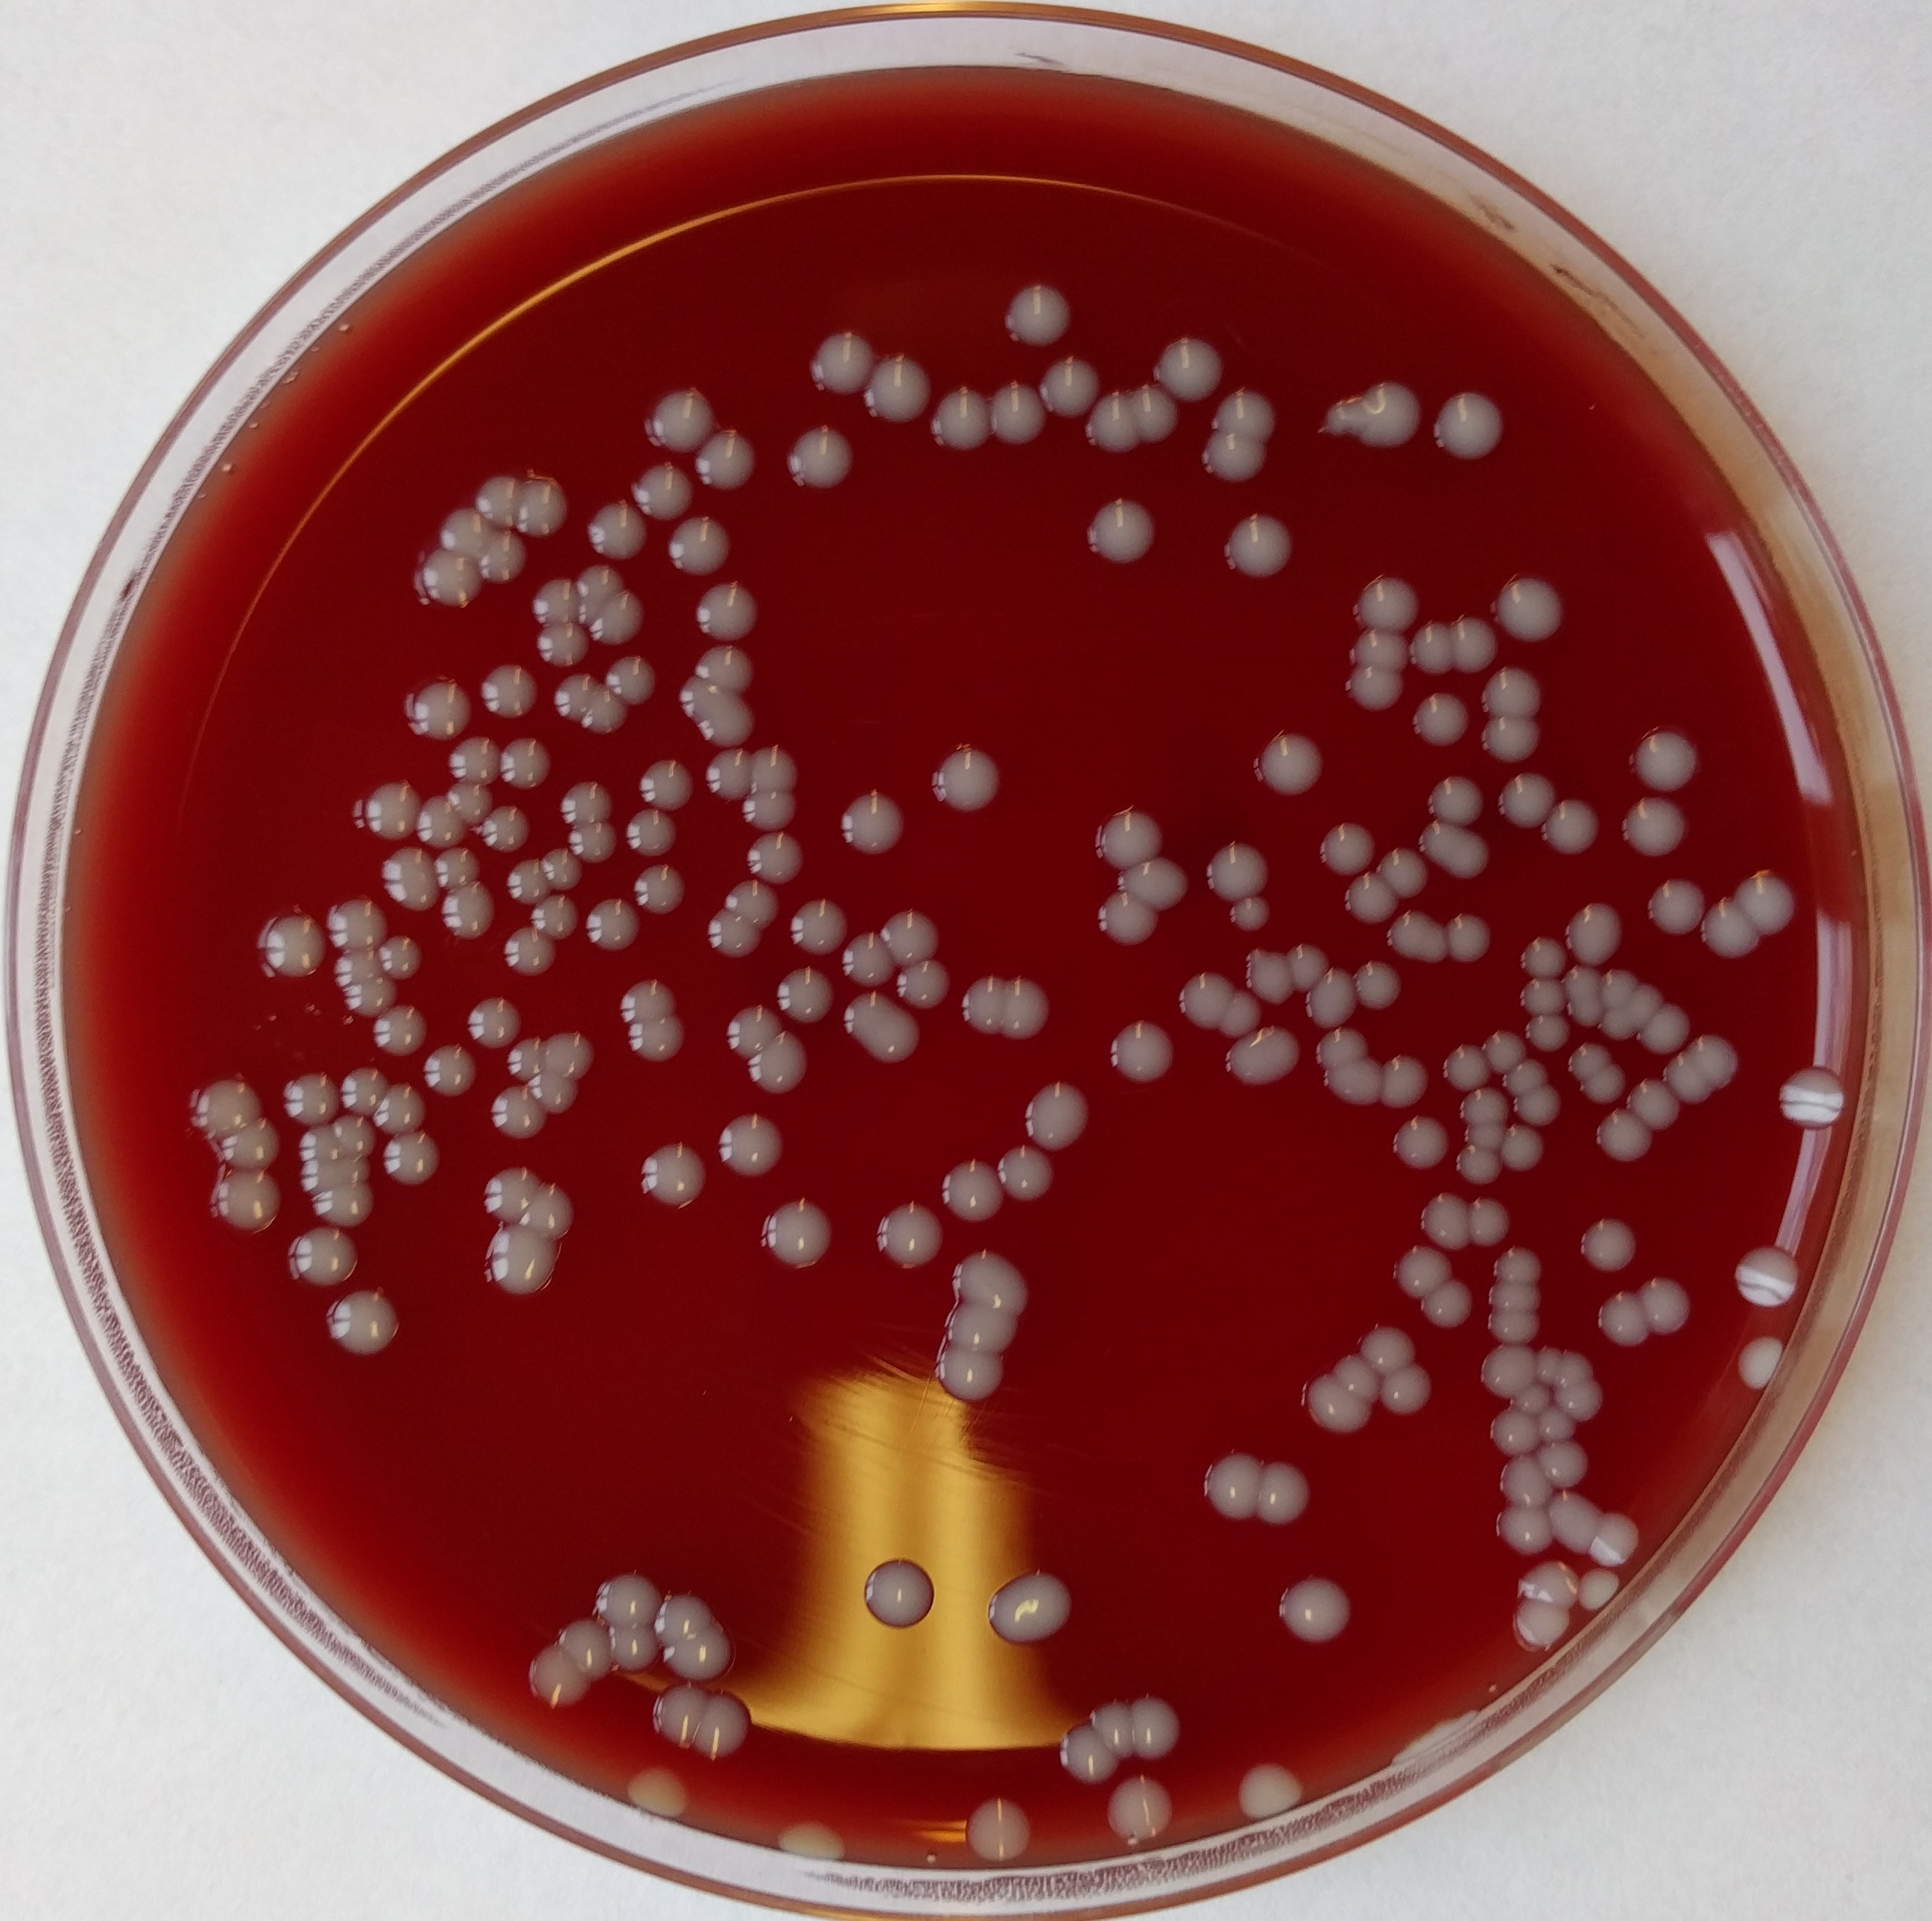sp22: (1311, 382, 1423, 468), (1418, 385, 1524, 468), (713, 1105, 797, 1191), (1214, 510, 1304, 589), (978, 1574, 1079, 1645), (1248, 721, 1332, 804), (475, 1228, 570, 1300), (857, 1550, 936, 1636), (628, 1142, 721, 1214), (853, 348, 938, 427), (1075, 493, 1161, 570), (841, 990, 926, 1068), (246, 911, 333, 987), (322, 901, 398, 987), (1270, 1574, 1358, 1648), (1017, 1078, 1098, 1158), (755, 1198, 838, 1275), (318, 1289, 412, 1358), (918, 746, 1003, 822), (1768, 1063, 1853, 1138), (945, 1249, 1036, 1318), (1409, 809, 1490, 887), (1614, 788, 1696, 864), (776, 426, 859, 500), (989, 285, 1075, 355), (676, 427, 762, 498), (1094, 1773, 1181, 1844), (679, 1689, 758, 1764), (1147, 331, 1228, 405), (984, 375, 1057, 456), (183, 1082, 280, 1143), (1216, 1024, 1307, 1089), (1100, 1019, 1184, 1089), (1401, 684, 1480, 758), (658, 1611, 739, 1684), (1031, 355, 1114, 426), (1555, 895, 1631, 971), (1728, 1238, 1804, 1314), (287, 1228, 370, 1296), (206, 1170, 290, 1237), (1244, 1458, 1318, 1534), (922, 385, 999, 457), (806, 329, 883, 401), (1489, 572, 1570, 640), (959, 1793, 1040, 1861), (867, 1205, 948, 1274), (832, 793, 915, 860), (1731, 866, 1805, 939), (519, 1647, 598, 1715), (1353, 561, 1427, 633), (1628, 725, 1703, 795), (401, 676, 482, 741), (1193, 1455, 1265, 1527), (544, 1610, 618, 1680), (640, 383, 720, 449), (1195, 427, 1276, 491), (929, 1340, 1010, 1404), (626, 468, 707, 531), (779, 897, 857, 962), (660, 515, 739, 579), (771, 1814, 852, 1875), (938, 1296, 1026, 1353), (1341, 619, 1416, 684), (1230, 1757, 1306, 1822), (410, 549, 486, 614), (1195, 841, 1272, 904), (1107, 858, 1191, 917), (579, 500, 656, 563), (1084, 894, 1163, 955), (582, 1571, 663, 1631), (1640, 876, 1710, 945), (1124, 1691, 1189, 1764), (686, 577, 760, 642), (370, 848, 445, 911), (507, 470, 574, 540), (1587, 1105, 1661, 1168), (1050, 1724, 1124, 1787), (876, 908, 950, 971), (741, 1024, 804, 1098), (936, 1163, 1012, 1224), (1533, 793, 1601, 860), (1489, 767, 1557, 834), (359, 783, 429, 848), (648, 1589, 720, 1652), (769, 968, 841, 1031), (211, 1117, 289, 1175), (1631, 999, 1698, 1066), (648, 1684, 714, 1750), (1077, 389, 1147, 452), (1570, 1214, 1640, 1277), (614, 1766, 699, 1819), (579, 588, 649, 651), (364, 1082, 436, 1143), (992, 1145, 1066, 1205), (1299, 1377, 1374, 1435), (1508, 1555, 1584, 1613), (621, 1013, 699, 1070), (1635, 1274, 1700, 1340), (1439, 609, 1503, 677), (1369, 841, 1438, 904), (1387, 1115, 1457, 1177), (1167, 973, 1237, 1034), (994, 971, 1056, 1041), (618, 804, 688, 866), (472, 663, 542, 725), (1094, 811, 1174, 866), (716, 876, 788, 936), (1205, 385, 1279, 443), (581, 894, 648, 957), (457, 992, 528, 1052), (473, 1165, 547, 1221), (739, 829, 813, 885), (274, 1071, 350, 1126), (1119, 380, 1184, 443), (693, 744, 758, 807), (1399, 614, 1460, 681), (1698, 899, 1765, 960), (600, 1618, 667, 1680), (954, 976, 1014, 1045), (1416, 1191, 1482, 1253), (1582, 1504, 1643, 1569), (1082, 1701, 1147, 1763), (436, 885, 501, 946), (494, 735, 560, 797), (693, 698, 755, 763), (565, 563, 625, 630), (611, 978, 686, 1031), (361, 1003, 429, 1061), (1311, 818, 1381, 874), (378, 1133, 450, 1187), (692, 646, 764, 700), (1316, 1059, 1390, 1112), (1494, 1504, 1557, 1566), (1438, 906, 1497, 971), (1381, 908, 1448, 966), (1724, 1333, 1791, 1391), (1475, 667, 1545, 721), (889, 957, 959, 1012), (1650, 1048, 1723, 1101), (1538, 1488, 1599, 1550), (1336, 867, 1399, 927), (1295, 969, 1358, 1029), (839, 932, 903, 992), (1619, 1080, 1686, 1136), (1471, 1339, 1538, 1395), (517, 1175, 574, 1242), (494, 924, 561, 980), (413, 1045, 480, 1101), (531, 616, 598, 672), (1475, 712, 1547, 763), (1460, 1187, 1519, 1251), (1510, 1596, 1573, 1654), (716, 1004, 783, 1059), (1390, 1244, 1459, 1296), (410, 795, 470, 855), (1425, 772, 1489, 829), (1376, 1052, 1432, 1115), (748, 741, 811, 797), (635, 756, 699, 813), (368, 934, 433, 989), (331, 980, 408, 1026), (628, 867, 695, 920), (1339, 663, 1413, 711), (306, 1182, 380, 1230), (565, 818, 633, 869), (538, 1024, 598, 1082), (1348, 959, 1411, 1013), (440, 735, 503, 790), (1416, 1282, 1482, 1335), (466, 530, 531, 582), (1436, 1047, 1503, 1098), (598, 656, 665, 707), (1592, 1293, 1652, 1349), (1483, 1406, 1543, 1462), (547, 670, 607, 727), (1684, 1034, 1745, 1089), (1374, 1363, 1438, 1416), (482, 1087, 545, 1140), (1489, 1455, 1554, 1506), (431, 505, 496, 556), (1496, 1122, 1552, 1180), (468, 473, 526, 530), (697, 913, 772, 955), (672, 677, 748, 719), (1309, 1027, 1376, 1075), (1517, 1001, 1577, 1054), (521, 892, 582, 943), (1207, 985, 1270, 1034), (524, 579, 588, 628), (1504, 1082, 1570, 1129), (523, 1068, 588, 1115), (1240, 946, 1299, 999), (1358, 1326, 1415, 1379), (535, 843, 595, 892), (500, 857, 560, 906), (440, 781, 501, 829), (579, 683, 632, 737), (1330, 1348, 1381, 1404), (334, 1064, 391, 1115), (737, 790, 802, 834), (1513, 932, 1571, 982), (1577, 1064, 1635, 1114), (1281, 941, 1336, 992), (1562, 1040, 1619, 1089), (1485, 1304, 1545, 1349), (475, 807, 535, 853), (1536, 1439, 1591, 1488), (1452, 1140, 1508, 1187), (1517, 973, 1575, 1019), (500, 1034, 556, 1080), (1485, 1275, 1548, 1316), (560, 783, 619, 825), (1476, 1029, 1531, 1075), (1487, 1242, 1547, 1282), (1592, 968, 1645, 1013), (1543, 1349, 1599, 1391), (1455, 1084, 1510, 1126), (1552, 1384, 1610, 1423), (1571, 1566, 1622, 1610), (1497, 1057, 1559, 1092), (1529, 1399, 1582, 1439), (428, 844, 482, 883), (326, 1112, 380, 1150), (1218, 894, 1272, 931), (292, 1128, 347, 1165), (1459, 1119, 1515, 1150), (1497, 1376, 1548, 1409), (1527, 1344, 1562, 1383)
